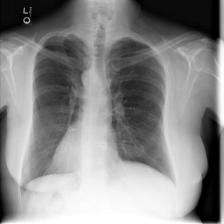normal: (14, 29, 182, 199)
